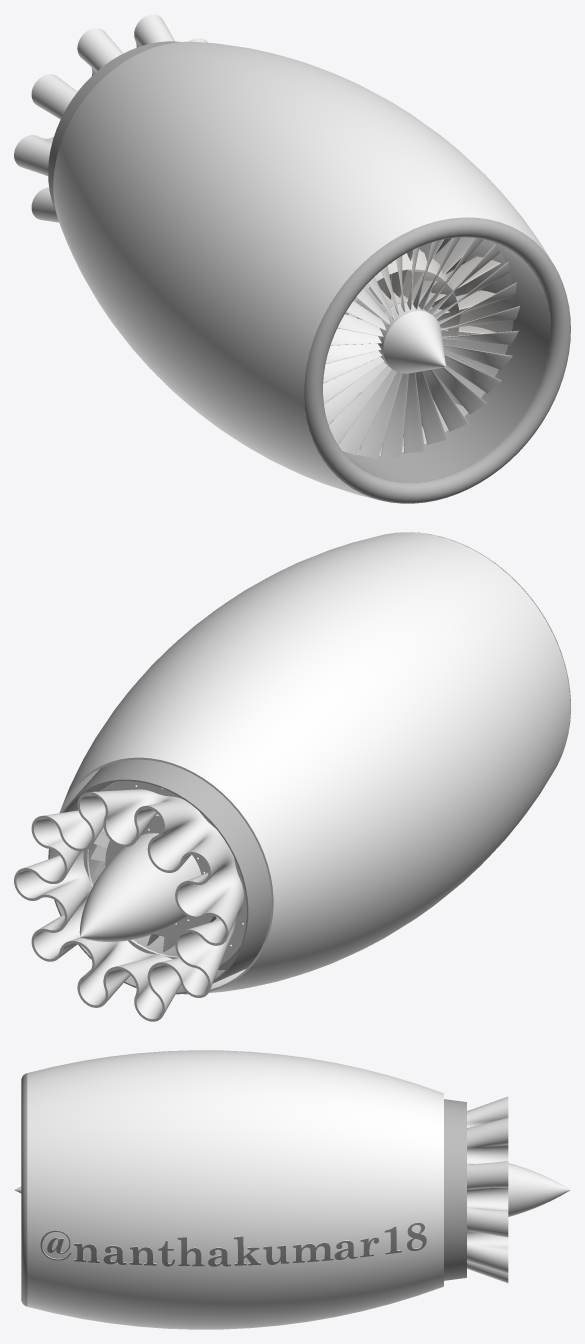
File: jet-engine-real.glb
3 views of the same model, one above another, from view 1: azimuth 30°, elevation 25°; view 2: azimuth 150°, elevation 25°; view 3: azimuth 270°, elevation 25° (orthographic). The views are drawn at different scales.
Visible parts, largest first — view 1: The Outer Case-1, Jet Engine Fan-1, Inlet Lip-1, Fan Casing-1, Fan Stator Casing-1, Exhaust Case-1, Nose Cone-1, The Inner Case-1; view 2: The Outer Case-1, Exhaust Case-1, End Cone-1, The Inner Case-1, Exhaust Nozzle-1; view 3: The Outer Case-1, Exhaust Case-1, The Inner Case-1, End Cone-1, Inlet Lip-1.
Part boxes in pixels (<box>): The Outer Case-1: <box>53,41,551,499</box>; Jet Engine Fan-1: <box>323,237,519,459</box>; Inlet Lip-1: <box>304,217,570,503</box>; Fan Casing-1: <box>342,243,550,482</box>; Fan Stator Casing-1: <box>337,237,514,455</box>; Exhaust Case-1: <box>14,14,208,222</box>; Nose Cone-1: <box>382,310,445,373</box>; The Inner Case-1: <box>48,41,466,319</box>; The Outer Case-1: <box>59,532,570,994</box>; Exhaust Case-1: <box>14,781,246,1021</box>; End Cone-1: <box>79,814,213,941</box>; The Inner Case-1: <box>48,759,271,994</box>; Exhaust Nozzle-1: <box>88,781,238,964</box>; The Outer Case-1: <box>27,1050,443,1329</box>; Exhaust Case-1: <box>467,1096,508,1283</box>; The Inner Case-1: <box>220,1099,466,1280</box>; End Cone-1: <box>508,1163,570,1216</box>; Inlet Lip-1: <box>21,1073,27,1306</box>.
Bounding box in the file's own units: 0.6695 × 0.6675 × 1.33.
Materials: 2 (2 with a texture image).
